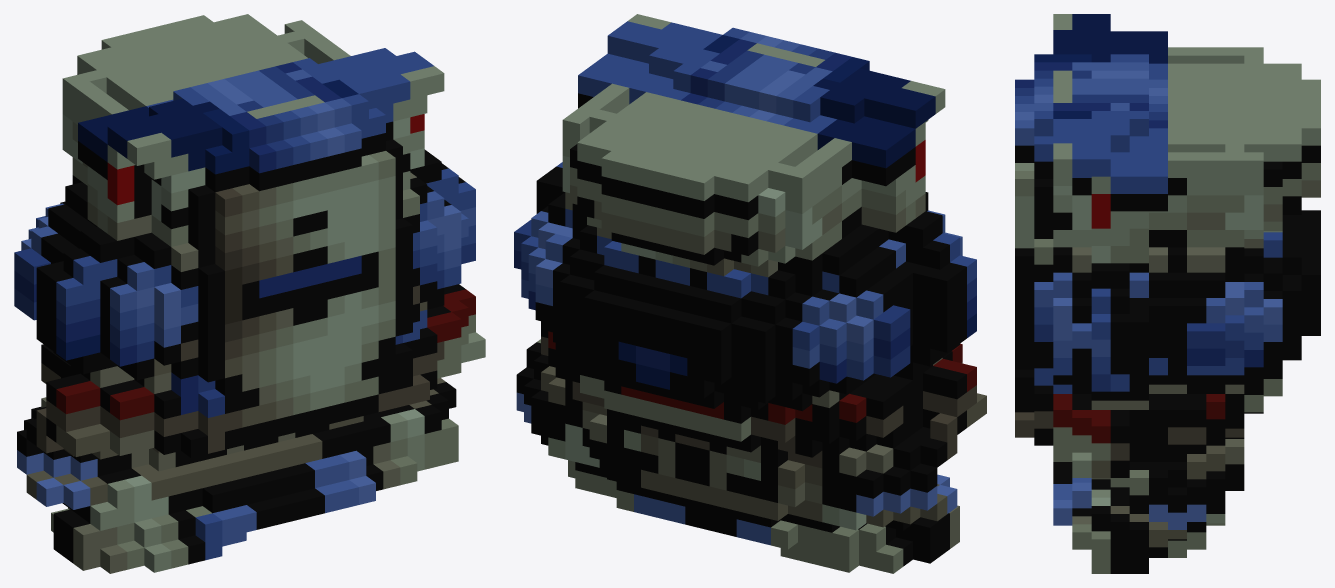
The model's file is Icon_746_03.obj.
3 views of the same model, side by side, from view 1: azimuth 30°, elevation 25°; view 2: azimuth 150°, elevation 25°; view 3: azimuth 270°, elevation 25° (orthographic). The views are drawn at different scales.
Size of the model in its own units: 2.4 by 2.4 by 1.6.
Materials: 1 (1 with a texture image).
